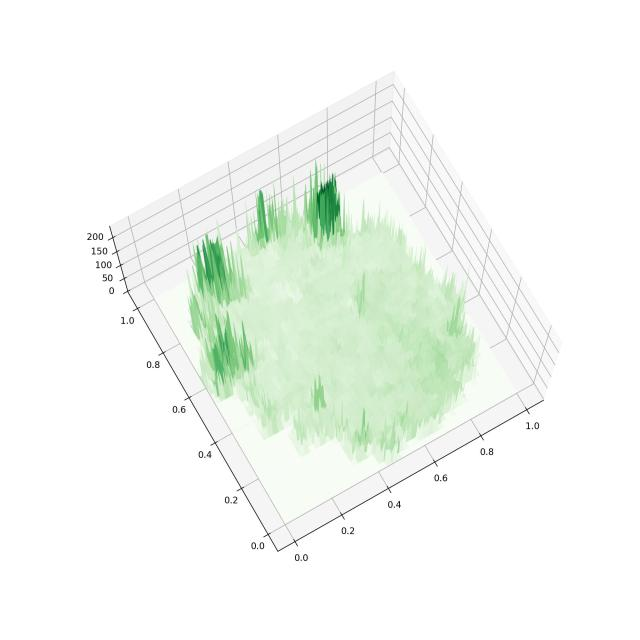fir: (72, 59, 593, 595)
